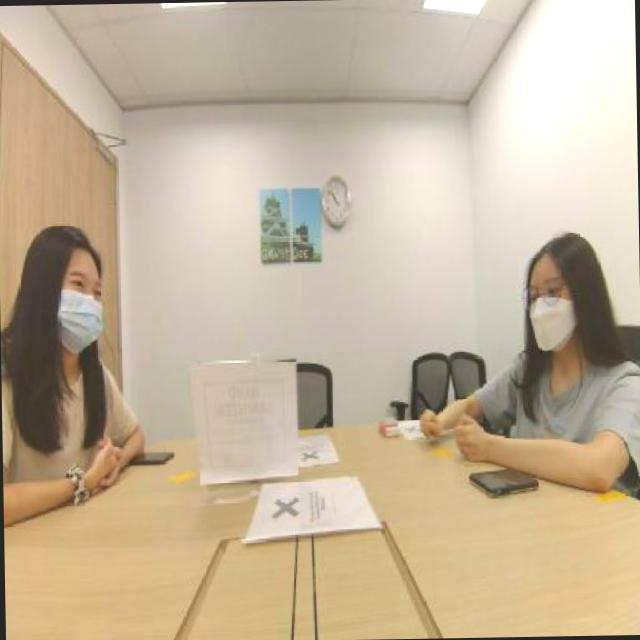Person: (451, 203, 640, 451), (3, 195, 129, 471)
